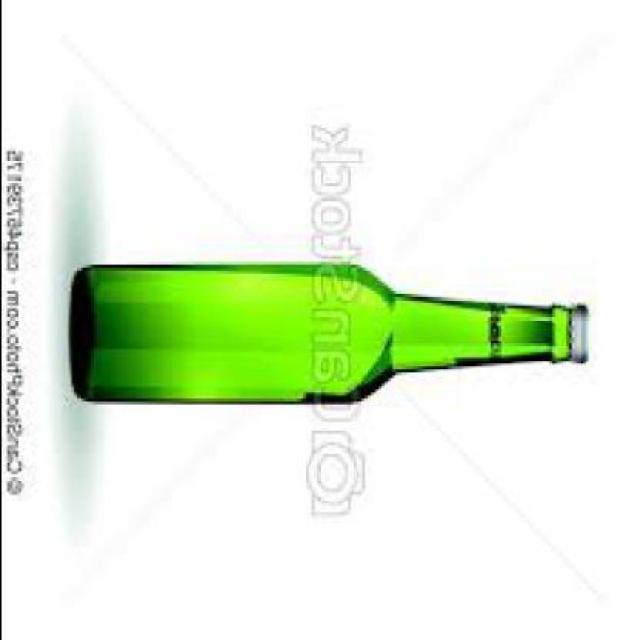GLASS: (70, 268, 573, 408)
METAL: (573, 308, 590, 367)
